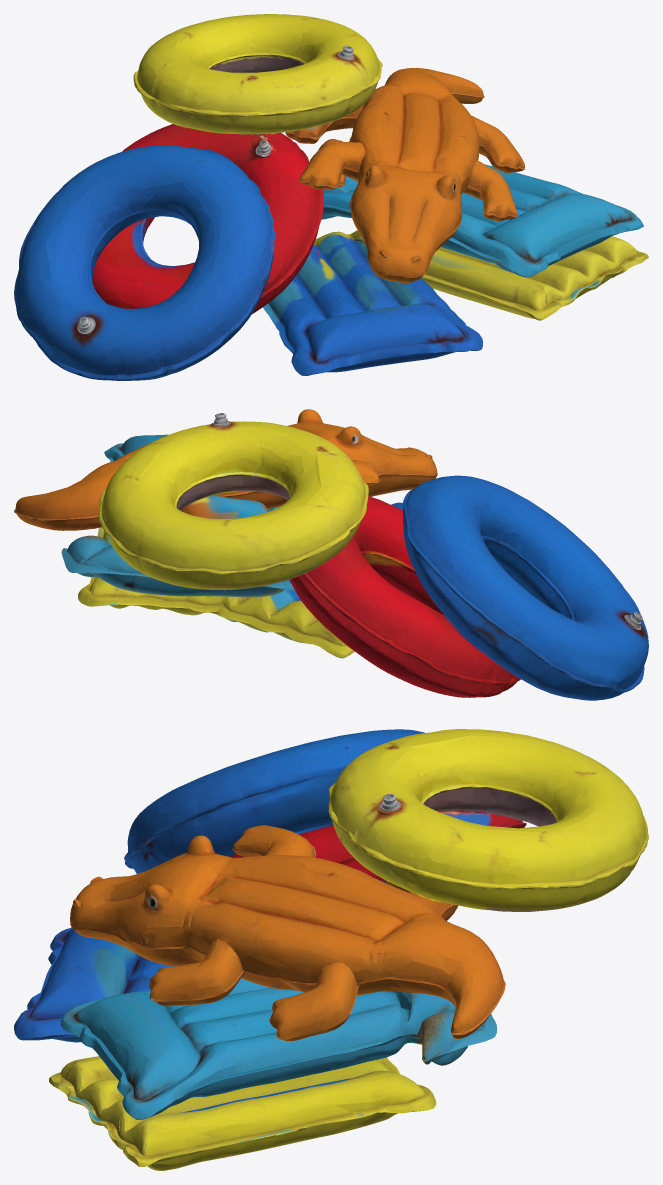
Rendered from gonfiabili_mucchio.glb.
3 renders of one model, top to bottom at view 1: azimuth 30°, elevation 25°; view 2: azimuth 150°, elevation 25°; view 3: azimuth 270°, elevation 25°, orthographic. The views are drawn at different scales.
Parts seen in each view (by area): view 1: Mesh_0; view 2: Mesh_0; view 3: Mesh_0.
Boxes of the visible parts, <box> form: Mesh_0: <box>14,14,648,380</box>; Mesh_0: <box>14,409,648,700</box>; Mesh_0: <box>14,729,648,1170</box>.
Bounding box in the file's own units: 1.9 × 0.6782 × 1.48.
1 material, 1 textured.
